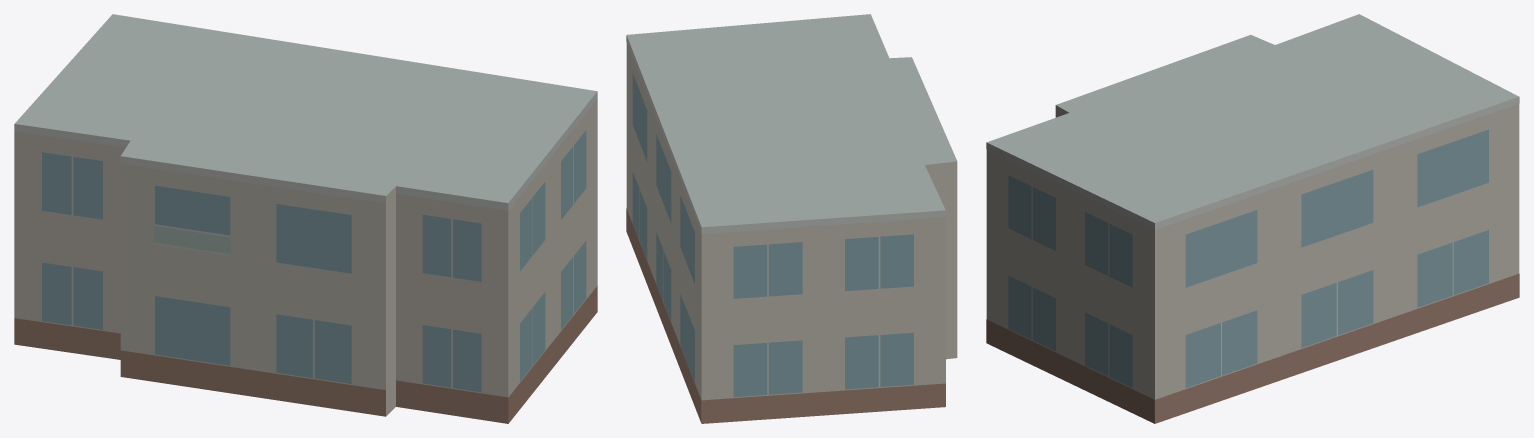
Rendered from survey-upis-32633544.glb.
The picture shows the model from 3 angles, left to right: view 1: azimuth 30°, elevation 25°; view 2: azimuth 150°, elevation 25°; view 3: azimuth 270°, elevation 25°; orthographic projection. The views are drawn at different scales.
Visible parts, largest first — view 1: survey-upis-32633544.tmp; view 2: survey-upis-32633544.tmp; view 3: survey-upis-32633544.tmp.
Part boxes in pixels (x1,y1,x2,y2): survey-upis-32633544.tmp: (14, 14, 597, 423); survey-upis-32633544.tmp: (626, 14, 957, 423); survey-upis-32633544.tmp: (986, 14, 1519, 423).
Size of the model in its own units: 15.75 by 7.05 by 16.96.
